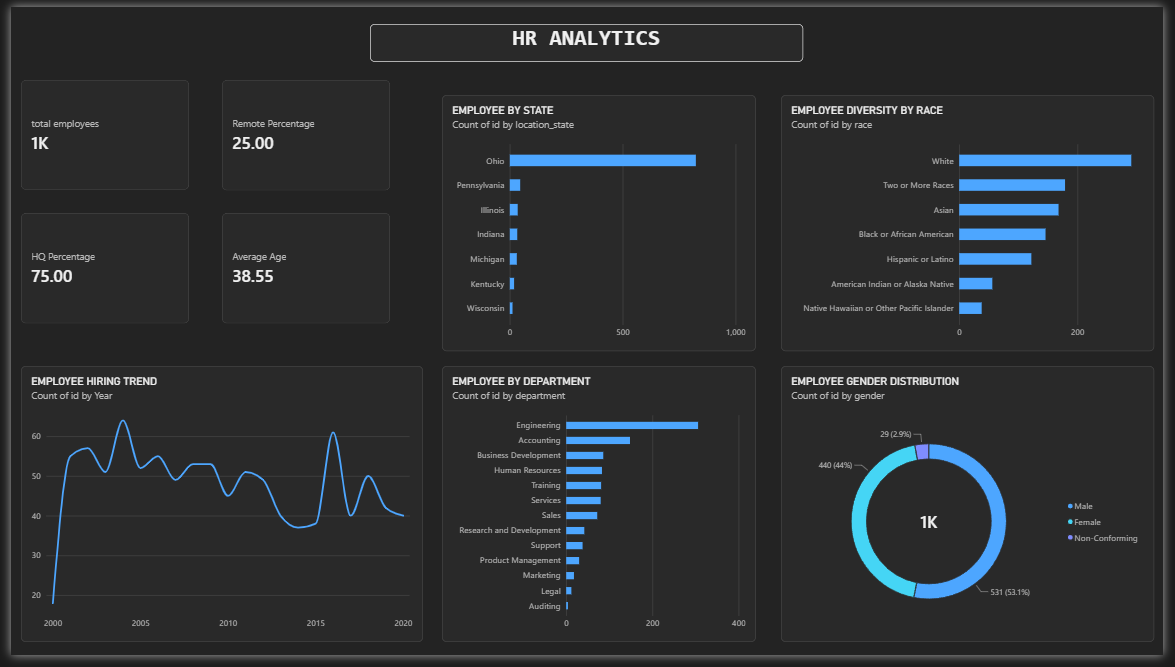

This screenshot's page, from the dashboard's own definition file:
{"tool":"powerbi","page":{"name":"Page 1","canvas":[1920,1080],"ordinal":0},"visuals":[{"type":"cardVisual","fields":{"Data":["employee data.total employees"]},"box":[16.7,121.7,280.1,183.8],"z":0},{"type":"cardVisual","fields":{"Data":["employee data.Remote Percentage"]},"box":[351.7,121.7,280,184],"z":1},{"type":"cardVisual","fields":{"Data":["employee data.HQ Percentage"]},"box":[16.7,343.3,280,184],"z":2},{"type":"cardVisual","fields":{"Data":["employee data.Average Age"]},"box":[351.7,343.3,280,184],"z":3},{"type":"textbox","box":[598.3,28.3,721.7,63.3],"z":4},{"type":"lineChart","title":"EMPLOYEE HIRING TREND","fields":{"Category":["employee data.hire_date.Variation.Date Hierarchy.Year"],"Y":["CountNonNull(employee data.id)"]},"box":[16.7,598.3,670,460],"z":5},{"type":"donutChart","title":"EMPLOYEE GENDER DISTRIBUTION","fields":{"Category":["employee data.gender"],"Y":["CountNonNull(employee data.id)"]},"box":[1283.3,598.3,621.7,460],"z":6},{"type":"clusteredBarChart","title":"EMPLOYEE BY STATE","fields":{"Category":["employee data.location_state"],"Y":["CountNonNull(employee data.id)"]},"box":[718.3,146.7,523.3,426.7],"z":7},{"type":"clusteredBarChart","title":"EMPLOYEE BY DEPARTMENT","fields":{"Category":["employee data.department"],"Y":["CountNonNull(employee data.id)"]},"box":[718.3,598.3,523.3,460],"z":8},{"type":"clusteredBarChart","title":"EMPLOYEE DIVERSITY BY RACE","fields":{"Category":["employee data.race"],"Y":["CountNonNull(employee data.id)"]},"box":[1283.3,146.7,621.7,426.7],"z":9}]}

Visuals, with their boxes in screenshot pixels (x1, y1, x2, y2), scaled from the page's 1920x1080 canvas onto the 1175x667 screenshot:
cardVisual - employee data.total employees: x1=10 y1=75 x2=182 y2=189
cardVisual - employee data.Remote Percentage: x1=215 y1=75 x2=387 y2=189
cardVisual - employee data.HQ Percentage: x1=10 y1=212 x2=182 y2=326
cardVisual - employee data.Average Age: x1=215 y1=212 x2=387 y2=326
textbox: x1=366 y1=17 x2=808 y2=57
"EMPLOYEE HIRING TREND" lineChart: x1=10 y1=370 x2=420 y2=654
"EMPLOYEE GENDER DISTRIBUTION" donutChart: x1=785 y1=370 x2=1166 y2=654
"EMPLOYEE BY STATE" clusteredBarChart: x1=440 y1=91 x2=760 y2=354
"EMPLOYEE BY DEPARTMENT" clusteredBarChart: x1=440 y1=370 x2=760 y2=654
"EMPLOYEE DIVERSITY BY RACE" clusteredBarChart: x1=785 y1=91 x2=1166 y2=354
